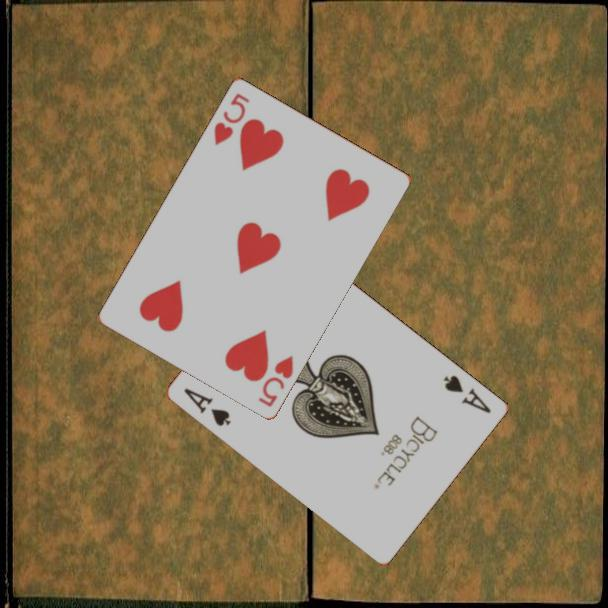h05: (210, 89, 253, 148), (254, 352, 296, 410)
s01: (440, 371, 495, 417), (181, 384, 234, 429)
